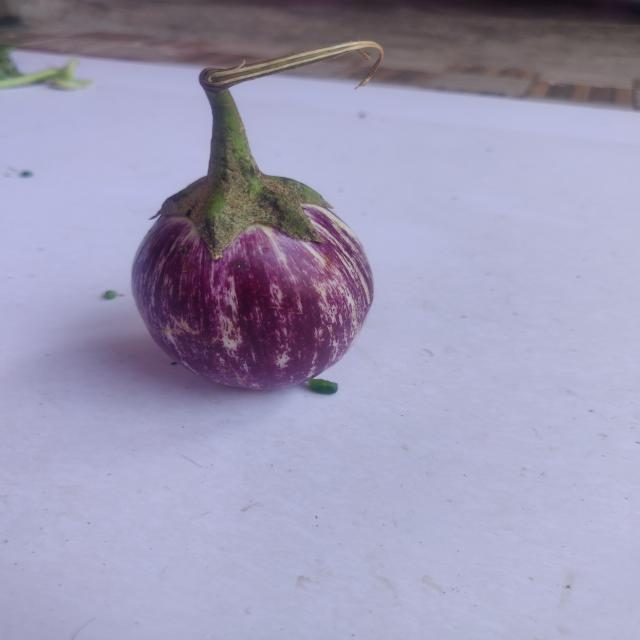Eggplant: (122, 56, 426, 413)
